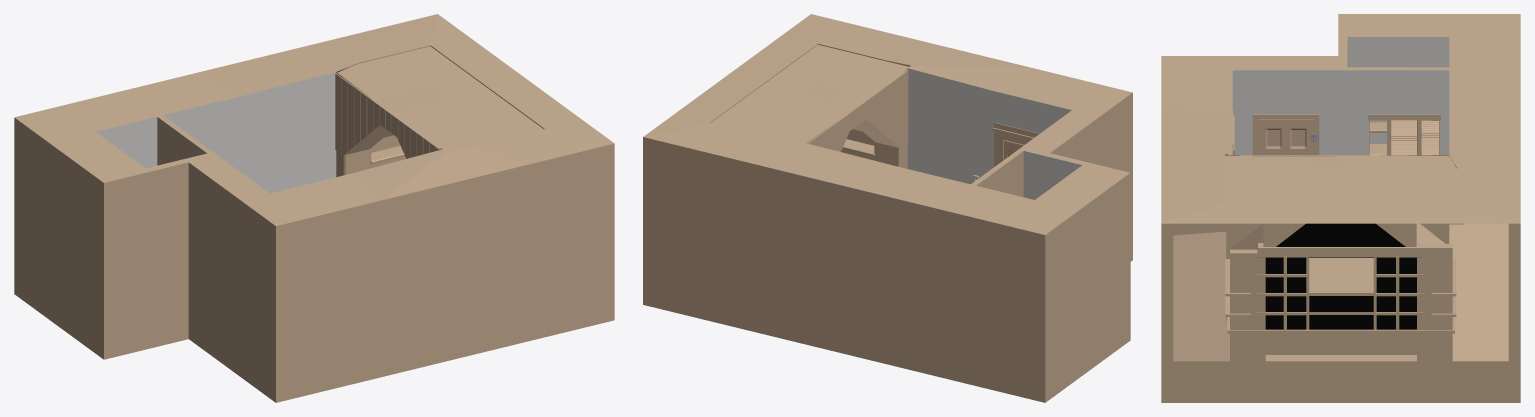
File: bedroom_v2.fbx
3 renders of one model, left to right at view 1: azimuth 30°, elevation 25°; view 2: azimuth 150°, elevation 25°; view 3: azimuth 270°, elevation 25°, orthographic. The views are drawn at different scales.
Visible parts, largest first — view 1: front2; view 2: front2; view 3: front2.
Boxes of the visible parts, bbox=[...] form: front2: bbox=[14, 14, 614, 402]; front2: bbox=[643, 14, 1132, 402]; front2: bbox=[1161, 14, 1520, 402].
Bounding box in the file's own units: 189 × 76.15 × 137.
